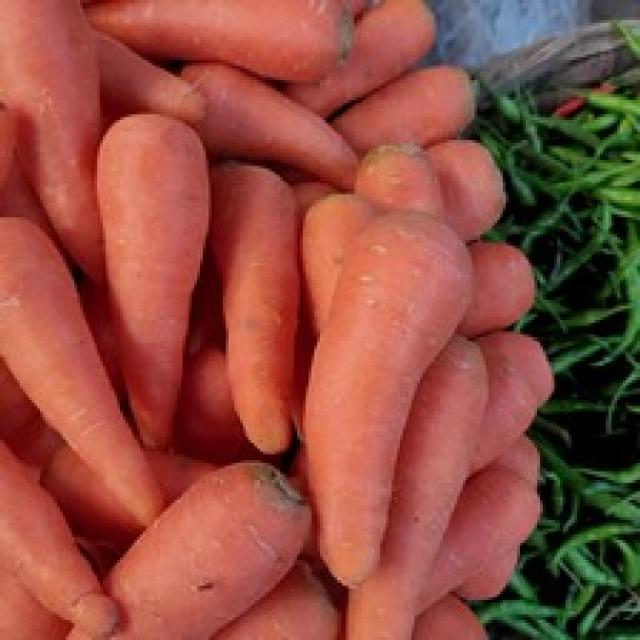Fresh_Carrot: (70, 35, 507, 605), (320, 202, 476, 575), (83, 118, 222, 445), (137, 454, 318, 632), (205, 144, 308, 449)
